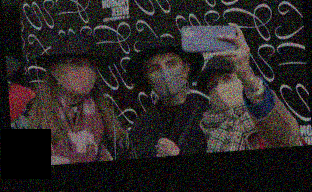with_mask: (205, 69, 243, 111), (146, 57, 183, 98), (58, 56, 96, 95)
